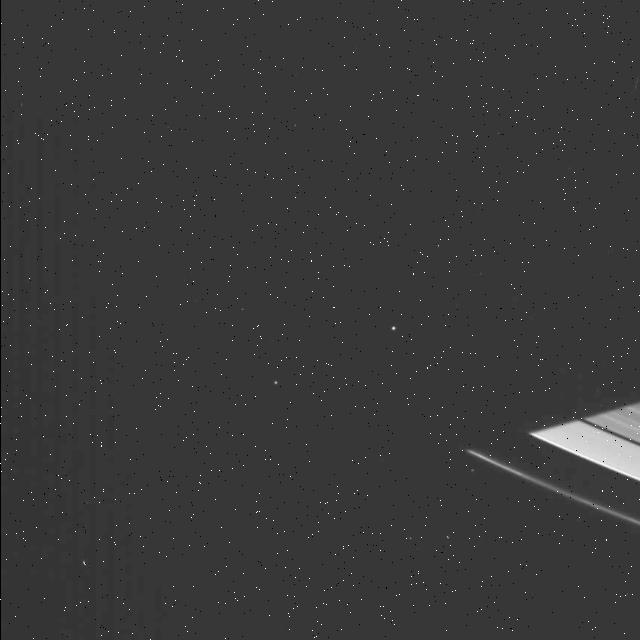Saturn: (461, 368, 640, 570)
